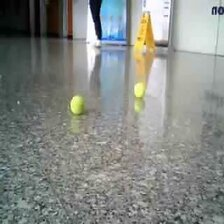tennis: (70, 95, 85, 115), (133, 82, 145, 98)
